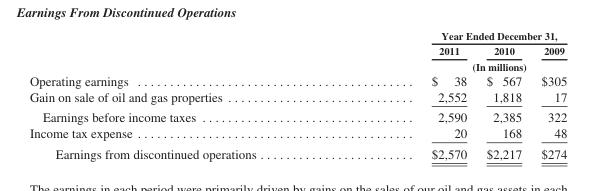table: (28, 29, 566, 160)
table column: (28, 29, 343, 160), (343, 29, 476, 160), (476, 29, 530, 160), (530, 29, 566, 160)
table column header: (28, 29, 566, 72)
table row: (28, 88, 566, 106), (28, 106, 566, 124), (28, 124, 566, 142), (28, 142, 566, 160), (28, 42, 566, 58), (28, 72, 566, 88), (28, 58, 566, 72), (28, 29, 566, 42)
table spanning cell: (343, 58, 566, 72), (343, 29, 566, 42)
